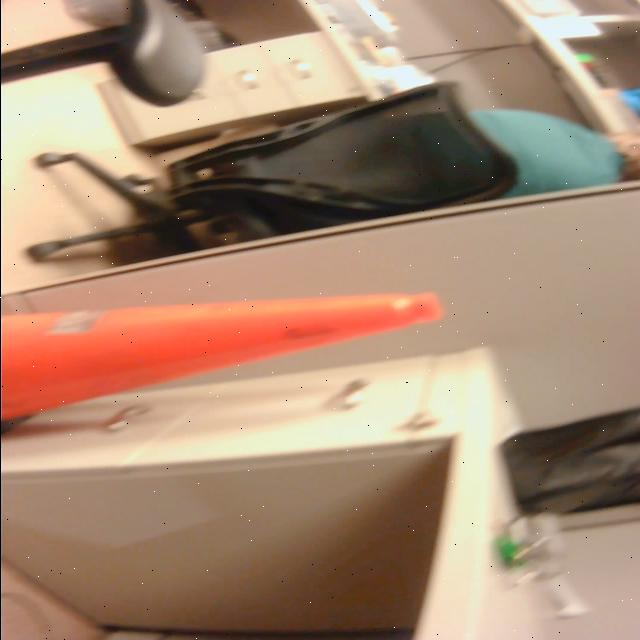traffic cone: (1, 288, 454, 451)
